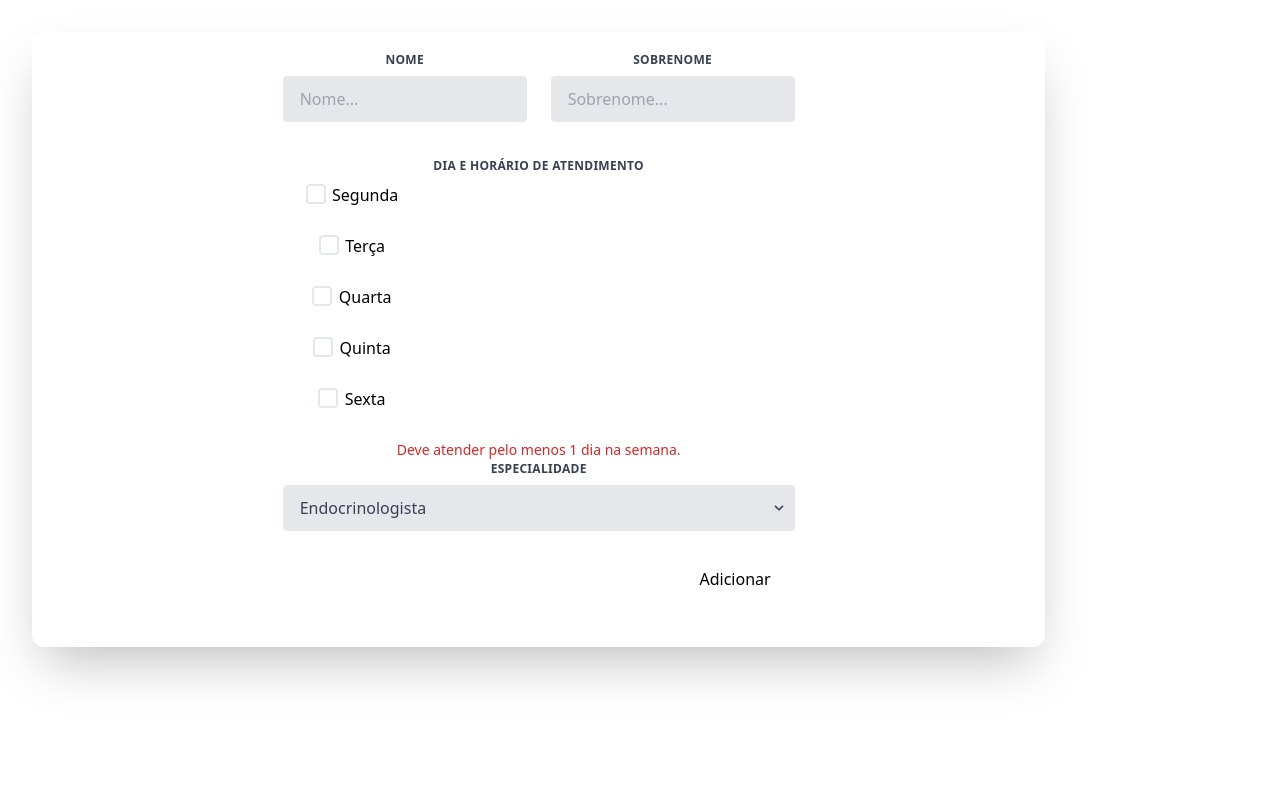
RegisterDoctor › given the incorrect name user, when name written with less than three characters, show error message
Type "Jo" into the field with test id "nomeDoctorInput".
click(405, 99); type("Jo")  # box [283, 76, 527, 122]
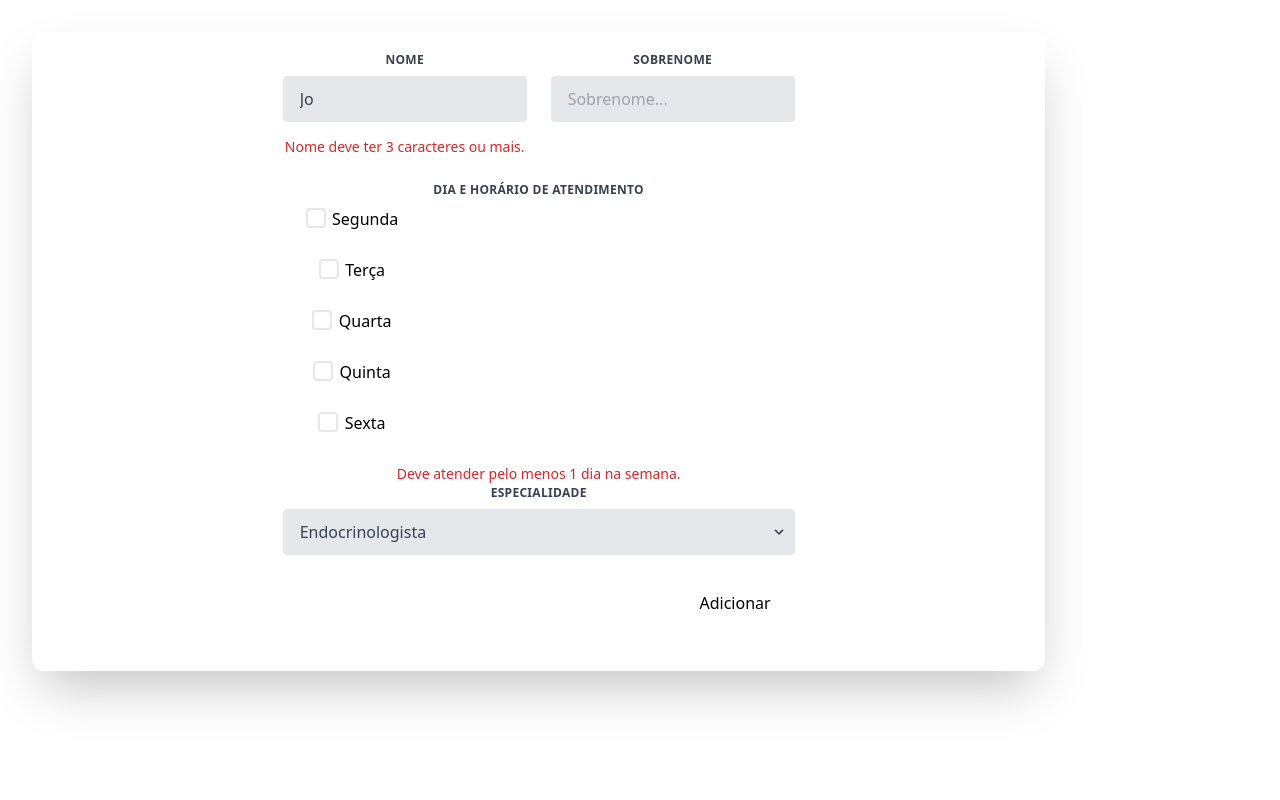
Now the text "Nome deve ter 3 caracteres ou mais." is shown, box [285, 137, 525, 156]
